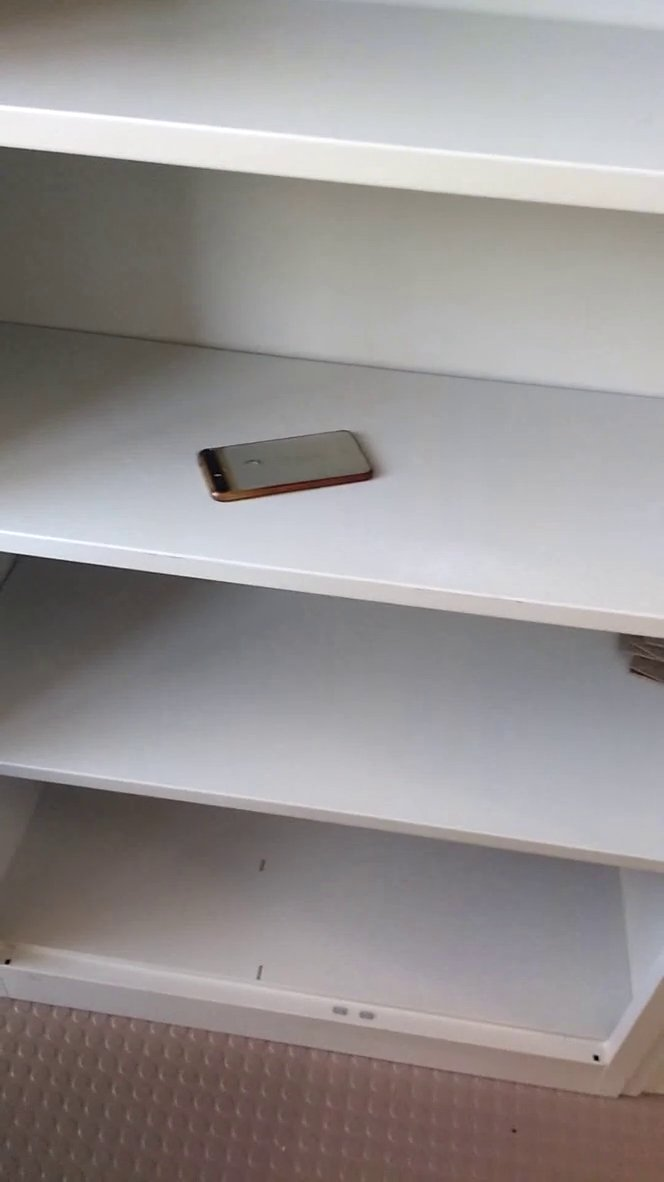phone: (192, 419, 387, 520)
